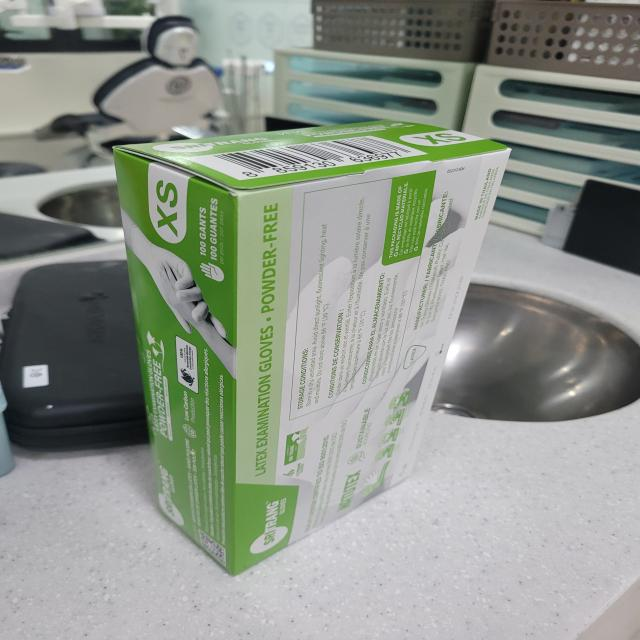glove: (92, 96, 515, 584)
